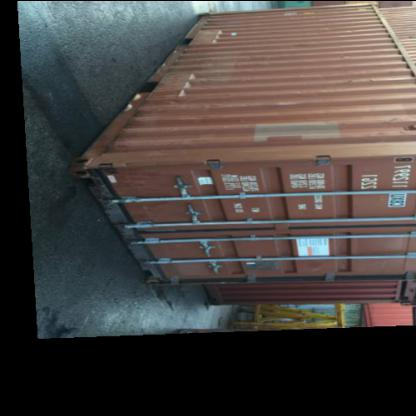Damage: (81, 158, 125, 196), (173, 64, 205, 113), (208, 26, 232, 50)
